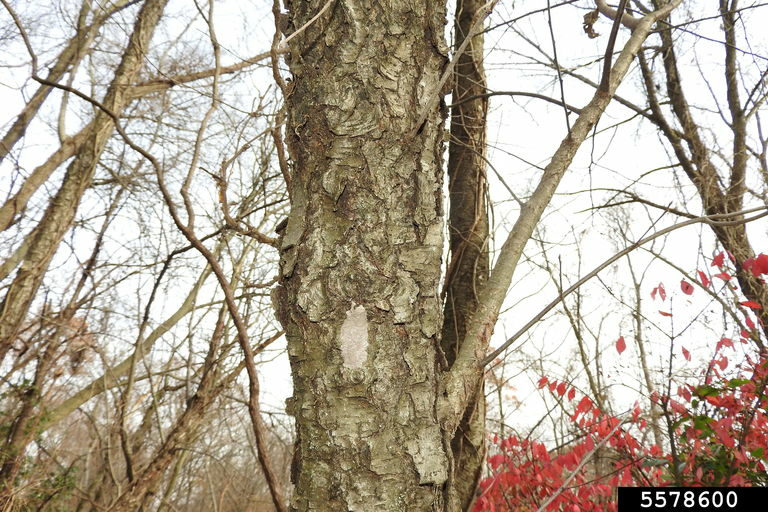egg masses: (341, 302, 370, 372)
